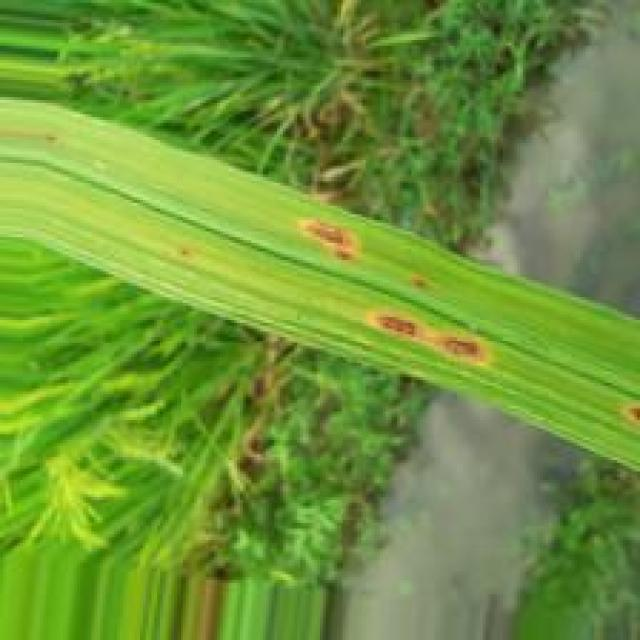Narrow_Brown_Leaf_Spot: (363, 305, 490, 372), (292, 216, 357, 262)
